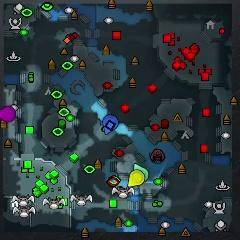p1: (104, 116, 119, 134)
p2: (133, 164, 149, 180)
p3: (0, 105, 18, 123)
p4: (128, 171, 144, 187)
